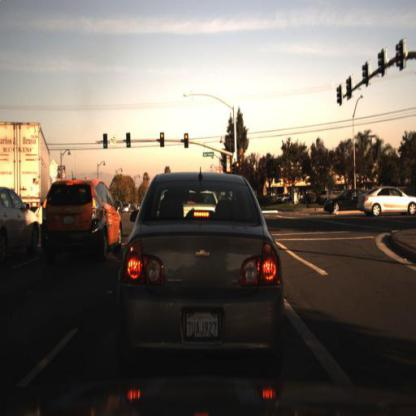car: (122, 175, 282, 374), (42, 176, 124, 264), (1, 184, 43, 265), (360, 186, 416, 221), (321, 186, 363, 217)
trafficLight-GreenLeft: (103, 130, 111, 151), (125, 131, 133, 152)
trafficLight-Red: (160, 130, 168, 149), (183, 133, 191, 152), (235, 161, 243, 179)
truck: (1, 118, 48, 224), (1, 117, 53, 208)
